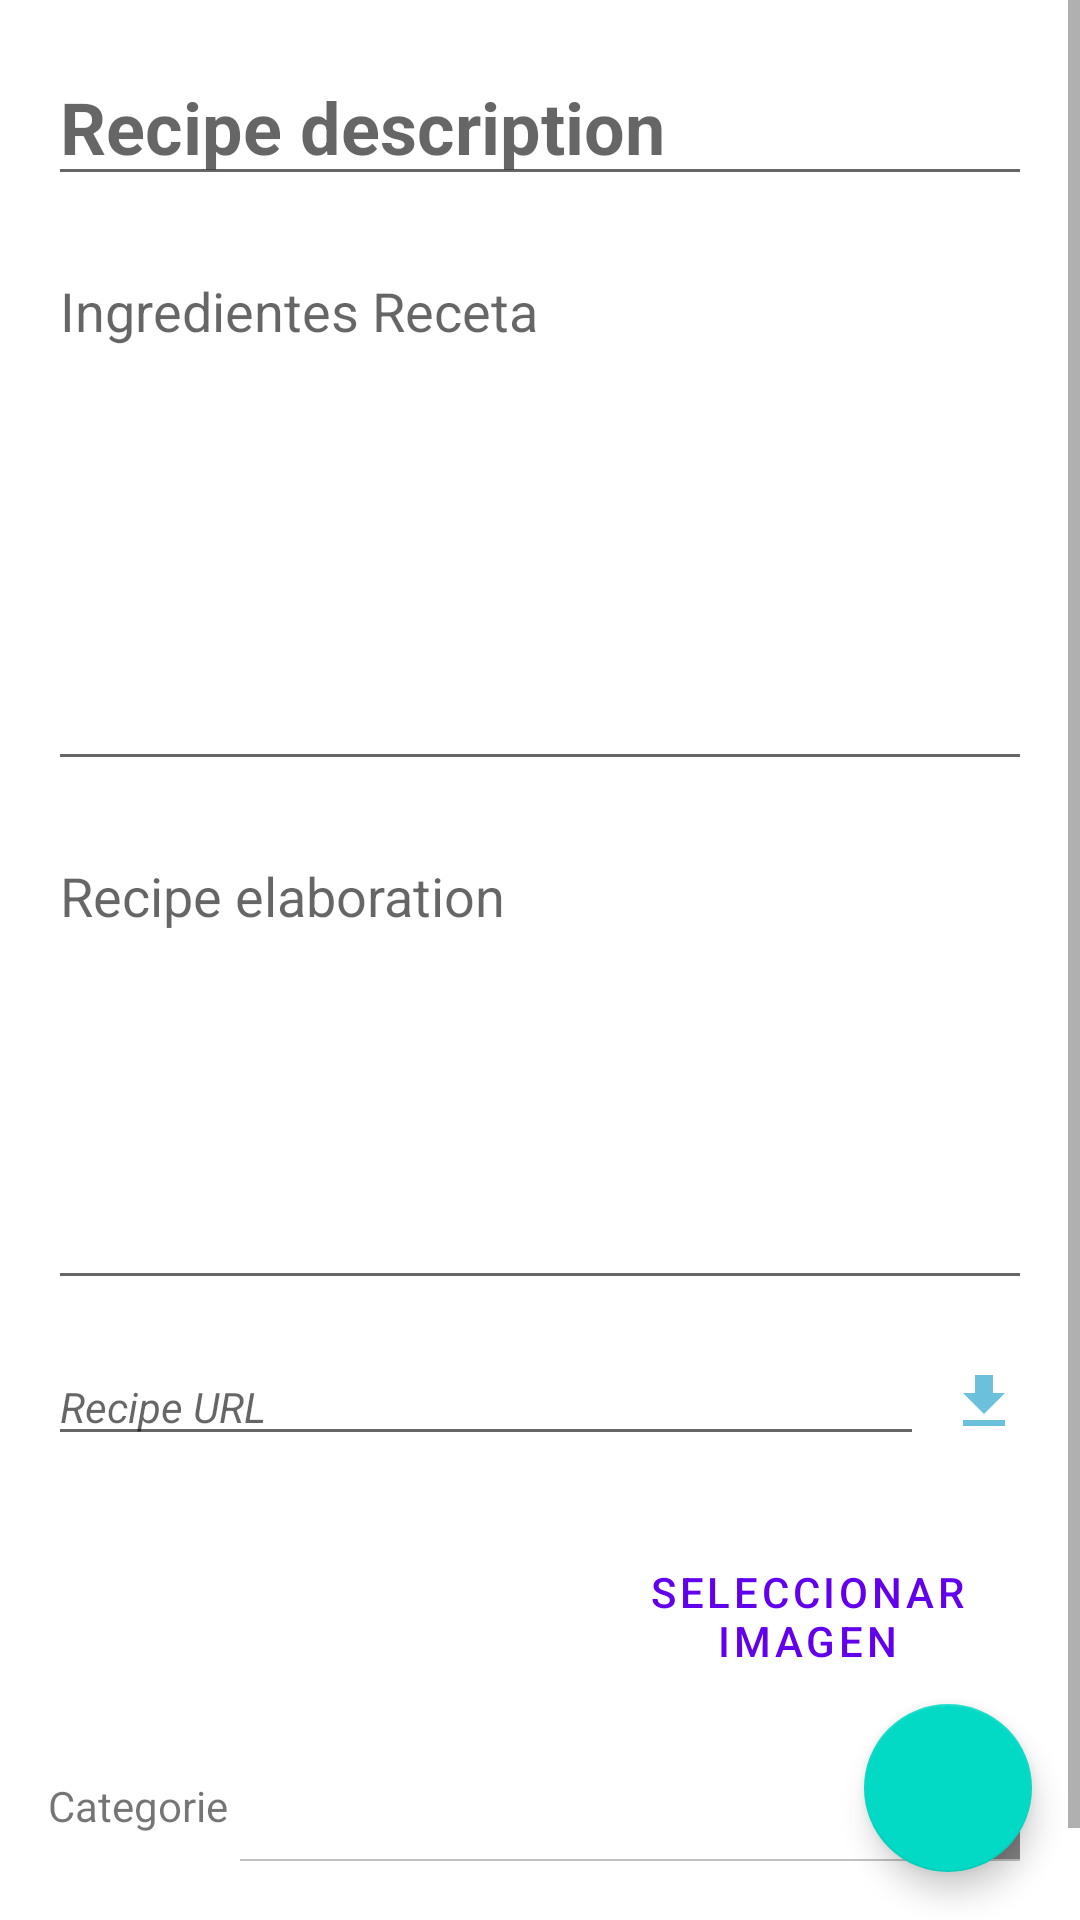

Icon click points for this 1080×1920 phone screenshot, format (x,y):
download: (984,1400)
